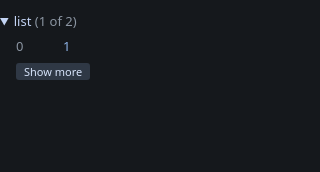
Test: collections load the next page without losing expanded state
Click the button "Show more".
click(53, 72)  # box x1=16 y1=63 x2=90 y2=80
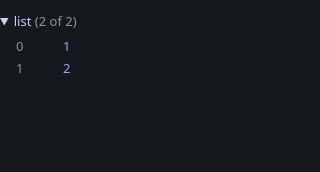
Now the text "2" is shown, box x1=63 y1=59 x2=70 y2=77
Now the button "Show more" is gone
